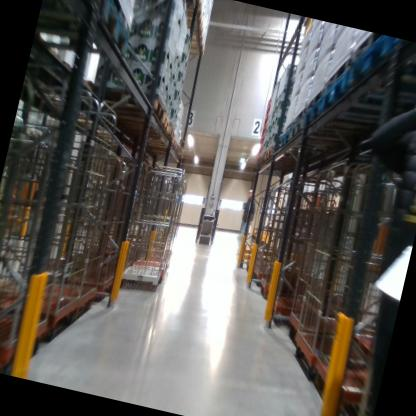pallet: (320, 54, 416, 136), (41, 0, 149, 60), (342, 34, 416, 108), (289, 110, 383, 158), (306, 94, 388, 139), (90, 92, 177, 133), (77, 86, 167, 119), (277, 128, 343, 165), (104, 110, 179, 142), (116, 129, 189, 161), (262, 143, 275, 163), (171, 138, 182, 151), (259, 152, 267, 168), (175, 140, 184, 150)
